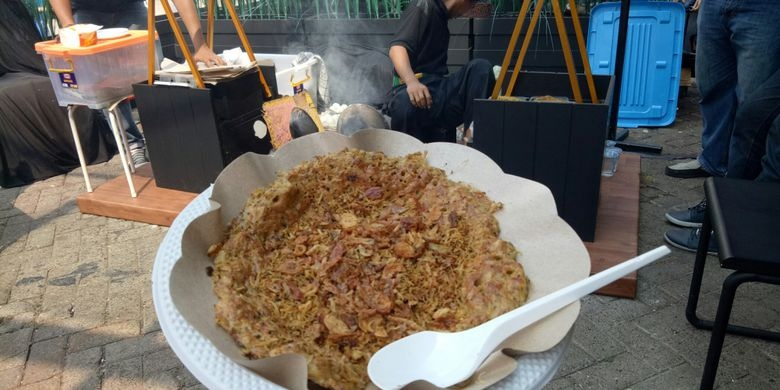kerak_telor: (206, 152, 538, 386)
